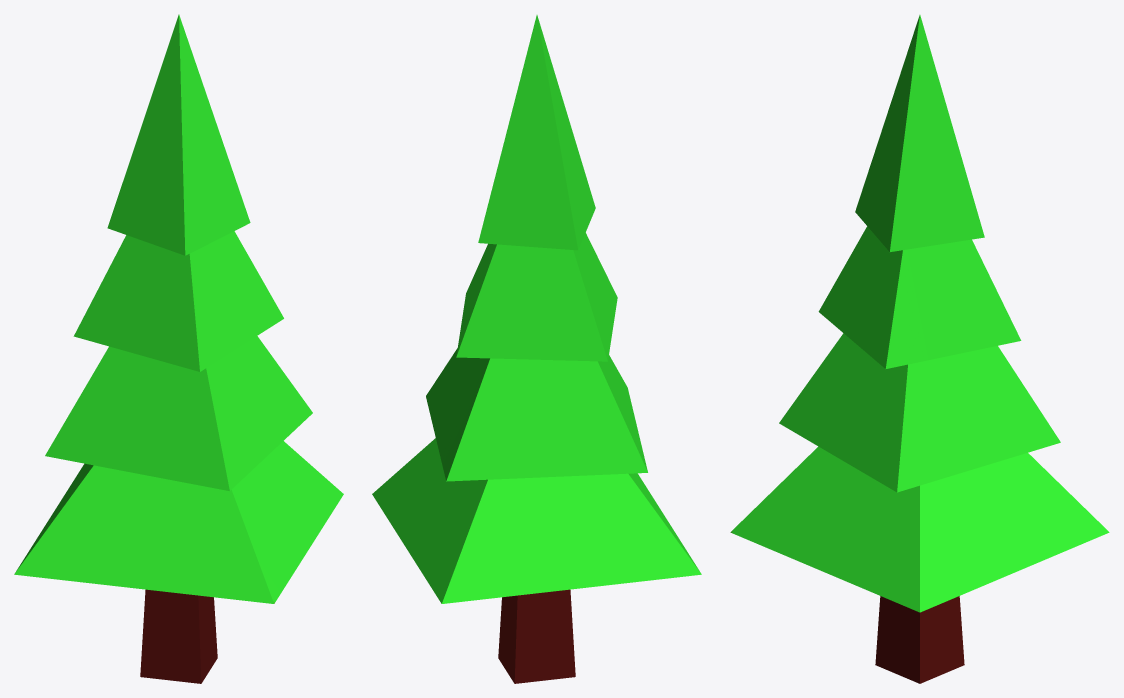
File: tree.gltf
3 views of the same model, side by side, from view 1: azimuth 30°, elevation 25°; view 2: azimuth 150°, elevation 25°; view 3: azimuth 270°, elevation 25° (orthographic).
Visible parts, largest first — view 1: Tree; view 2: Tree; view 3: Tree.
Boxes of the visible parts, x1,y1,x2,y2 form: Tree: (14, 14, 343, 683); Tree: (372, 15, 701, 683); Tree: (730, 15, 1109, 683).
Bounding box in the file's own units: 6.02 × 11.4 × 6.02.
Materials: 1 (1 with a texture image).
